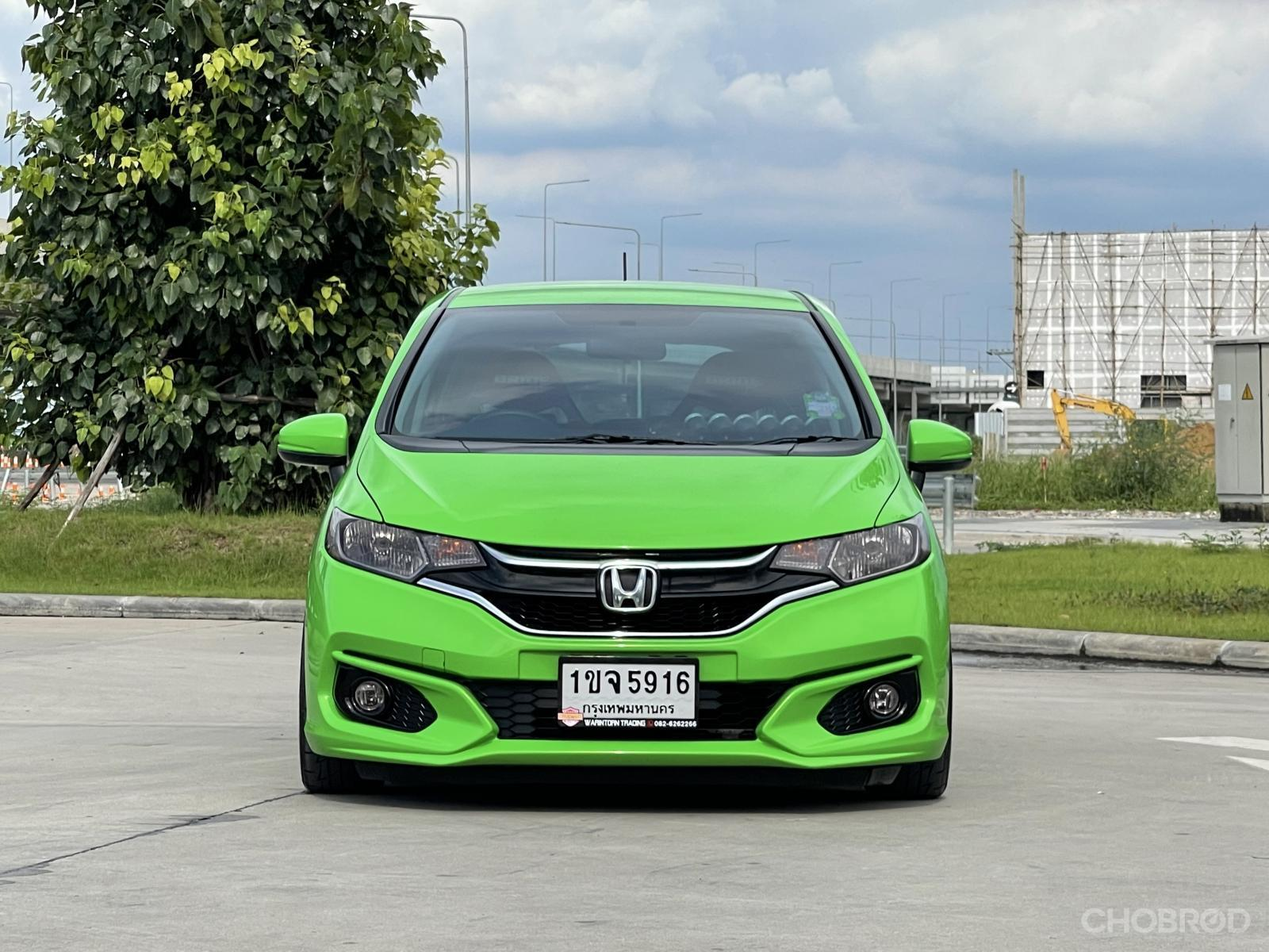license-plate: (557, 651, 701, 733)
